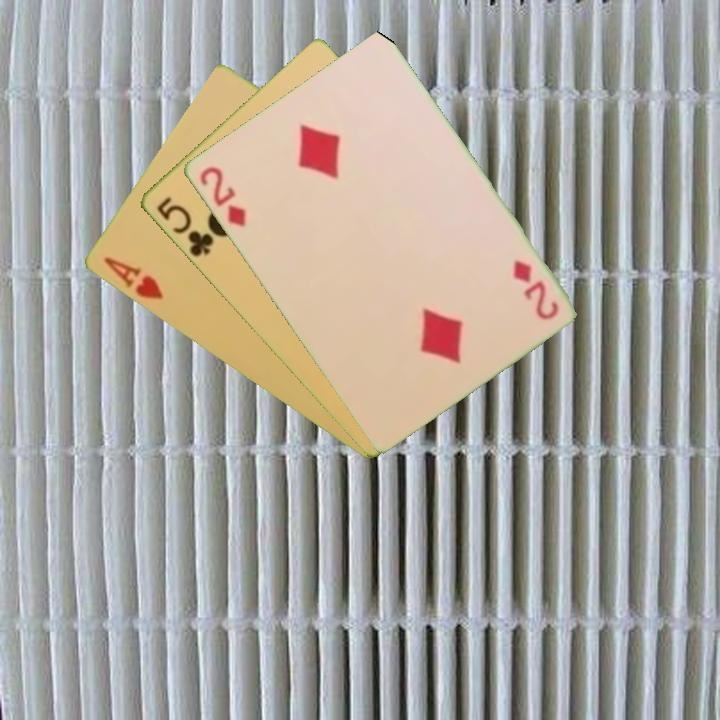2d: (195, 162, 249, 230), (508, 256, 561, 323)
5c: (152, 192, 216, 260)
Ah: (99, 253, 166, 303)
